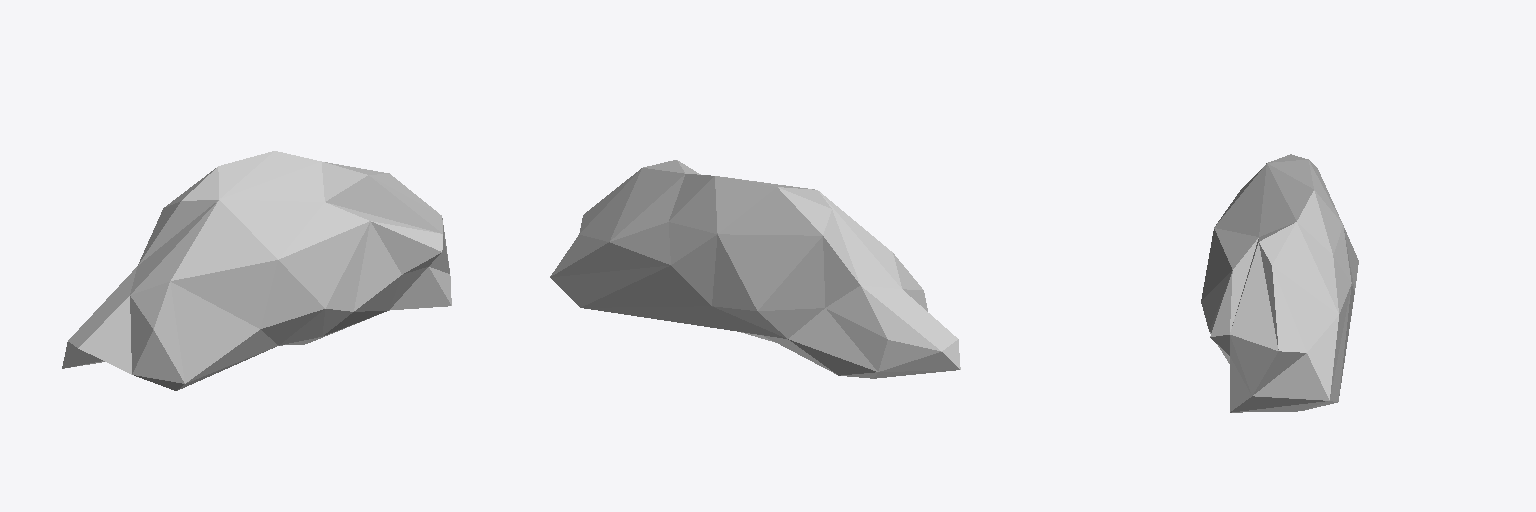
Rendered from Cloud11.obj.
3 views of the same model, side by side, from view 1: azimuth 30°, elevation 25°; view 2: azimuth 150°, elevation 25°; view 3: azimuth 270°, elevation 25° (orthographic).
Visible parts, largest first — view 1: Cloud11_Object_98_Object_47.001; view 2: Cloud11_Object_98_Object_47.001; view 3: Cloud11_Object_98_Object_47.001.
Part boxes in pixels (left/top/right/bottom): Cloud11_Object_98_Object_47.001: left=62, top=151, right=451, bottom=390; Cloud11_Object_98_Object_47.001: left=550, top=160, right=960, bottom=378; Cloud11_Object_98_Object_47.001: left=1201, top=154, right=1358, bottom=412.
Size of the model in its own units: 1.71 by 0.7187 by 0.6047.